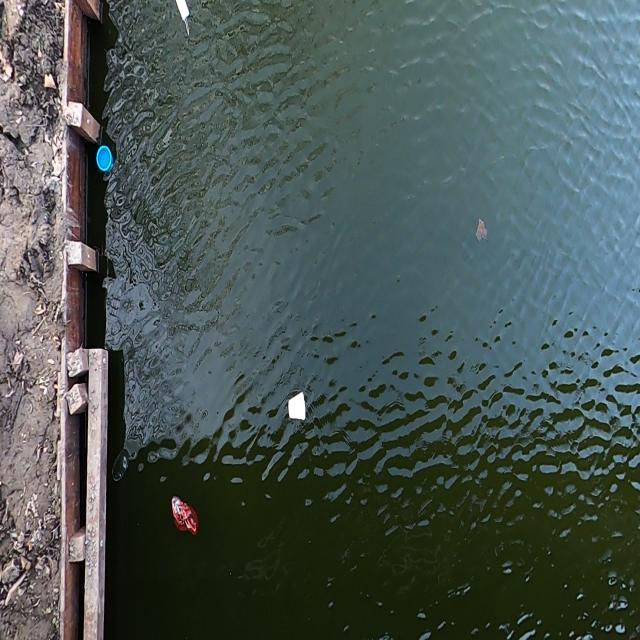Autre plastique: (92, 144, 116, 180)
Non plastique: (286, 382, 314, 431), (172, 0, 196, 39)
Sac plastique: (168, 495, 199, 544)
